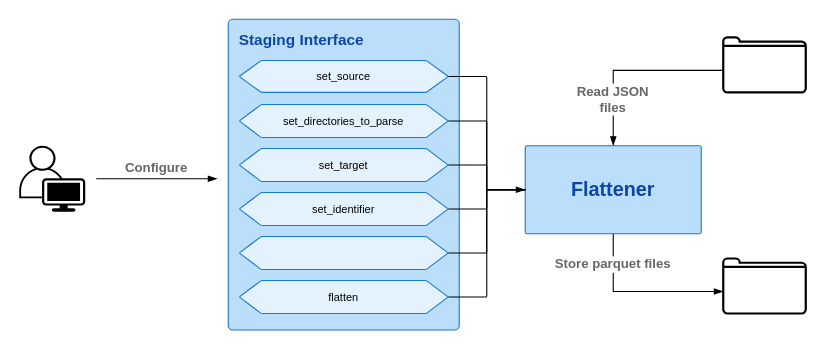
Some shapes in this 825 by 350 pixel diagram are drawn without their labels. Each missing label, with the box of its shape:
set_modified_at_column: (238, 235, 448, 270)
Source Directory: (722, 36, 806, 93)
Target Directory: (722, 257, 806, 314)
